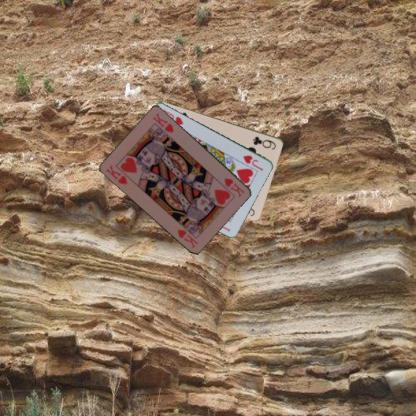6c: (250, 133, 278, 151)
Jh: (241, 153, 265, 172)
Kh: (103, 162, 129, 186), (222, 176, 246, 198)
